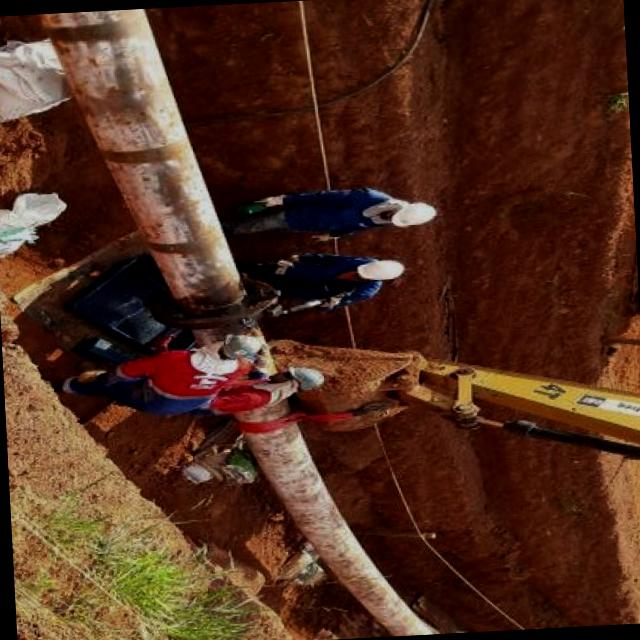gas: (37, 10, 437, 637)
